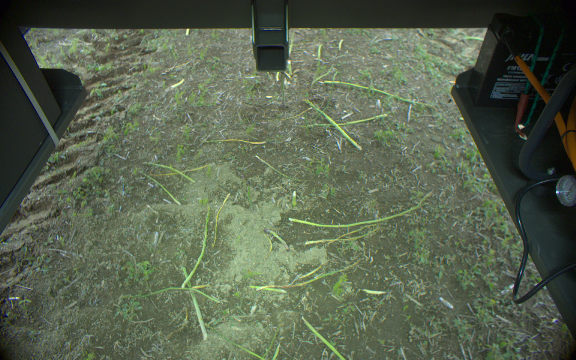aspa: (303, 100, 365, 155), (176, 267, 209, 342)
